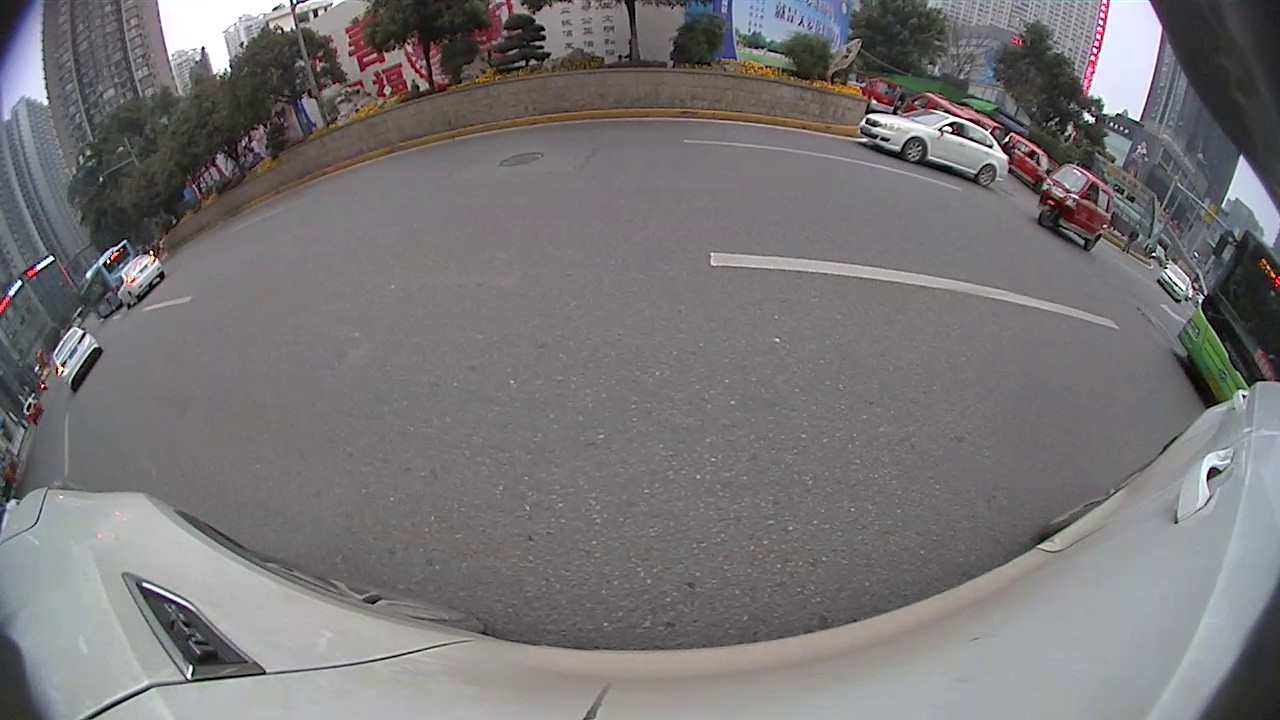bus: (1178, 226, 1278, 405), (77, 239, 135, 321)
car: (856, 107, 1011, 188), (50, 324, 103, 395), (116, 252, 166, 309), (1157, 262, 1192, 303)
front: (897, 137, 929, 164), (1033, 205, 1053, 228)
rear: (976, 162, 999, 188), (1081, 233, 1100, 253)
rider: (1037, 163, 1115, 252), (904, 91, 981, 131), (1003, 131, 1050, 194), (960, 103, 1005, 149), (868, 80, 904, 117)
